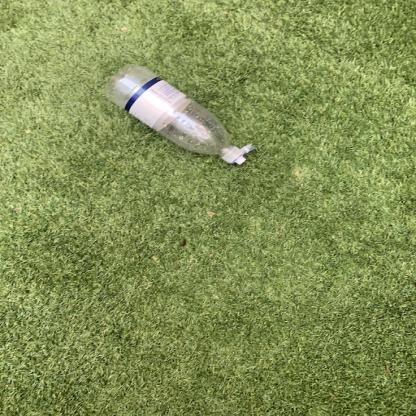trash: (102, 65, 257, 169)
